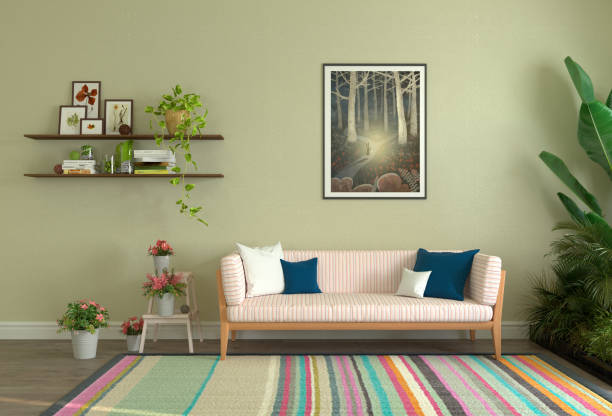flower vase: (55, 296, 110, 361), (142, 271, 190, 318), (146, 233, 173, 275), (120, 313, 145, 353)
small plant: (148, 84, 208, 226)
sofa: (215, 239, 511, 361)
wall art: (319, 58, 428, 201)
